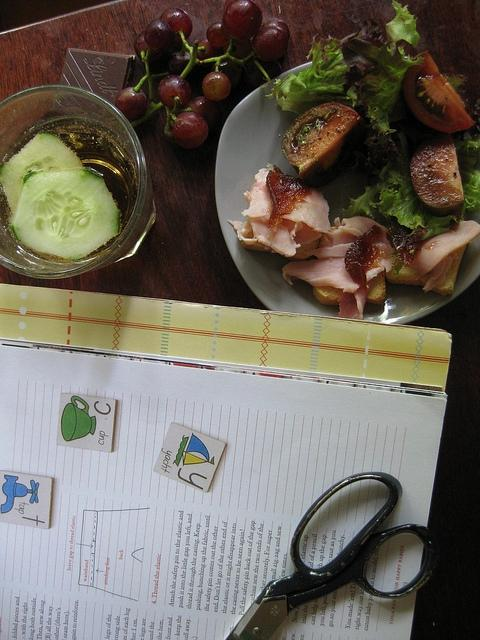cucumber: (12, 170, 120, 260), (2, 131, 82, 216)
grape: (222, 0, 262, 42), (172, 111, 208, 149), (250, 26, 288, 61), (115, 86, 148, 120), (144, 20, 176, 54), (162, 8, 192, 42), (158, 76, 191, 106), (203, 72, 231, 102), (259, 18, 290, 42), (186, 96, 217, 120), (133, 30, 156, 59), (167, 50, 191, 77), (206, 22, 230, 47), (197, 38, 224, 60)
lettuce: (265, 32, 353, 116), (344, 38, 425, 82), (376, 169, 425, 235), (340, 176, 392, 220), (386, 0, 420, 56), (458, 166, 480, 212)
tomato: (281, 102, 366, 186), (402, 50, 476, 134), (410, 128, 464, 219)
